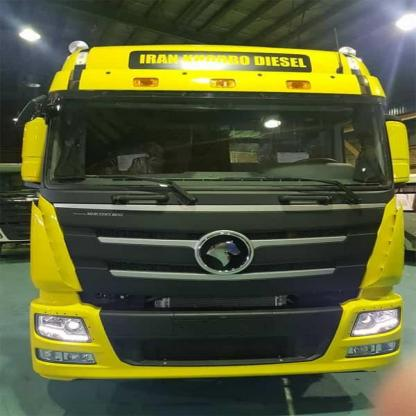Truck: (0, 21, 416, 382)
